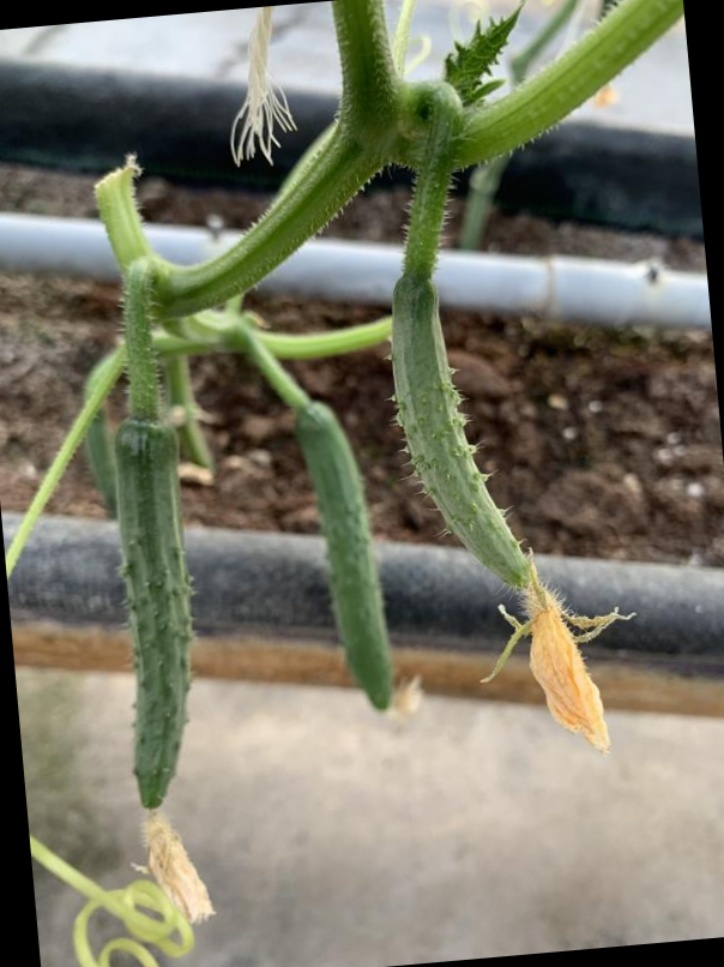bear: (387, 280, 609, 714)
growth: (104, 412, 210, 920), (287, 398, 413, 727)
